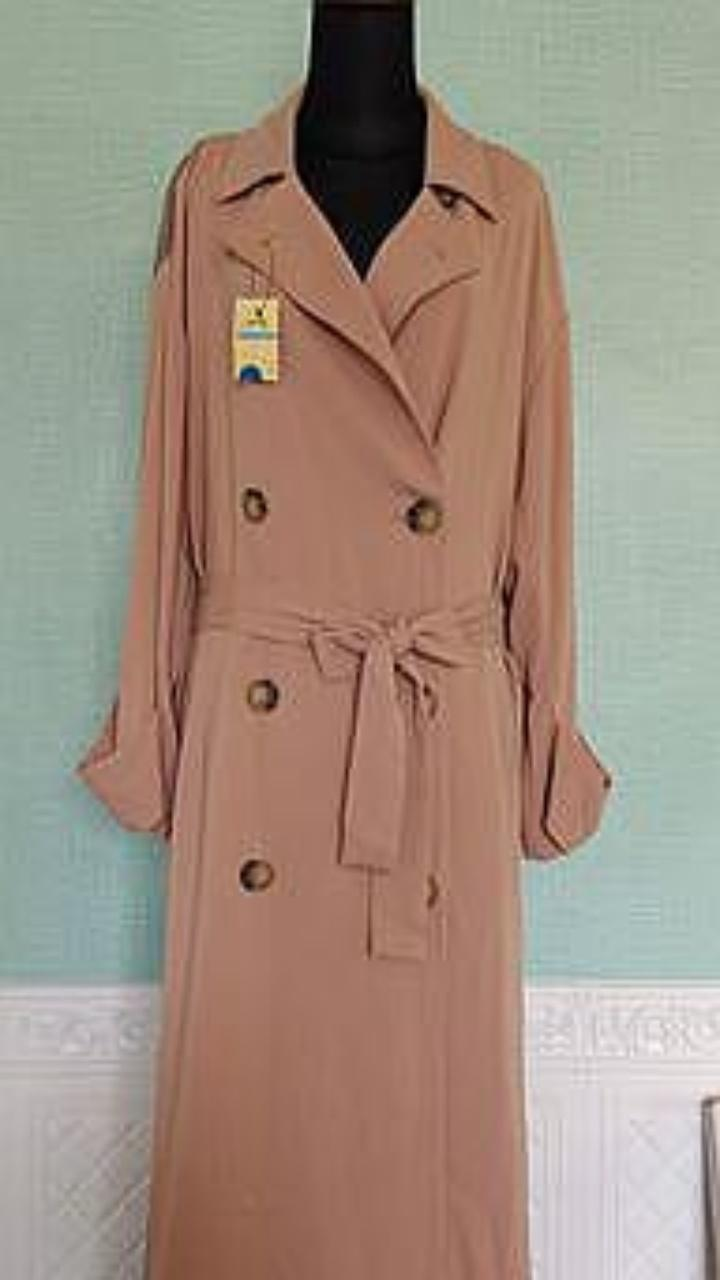Coat: (76, 86, 610, 1279)
